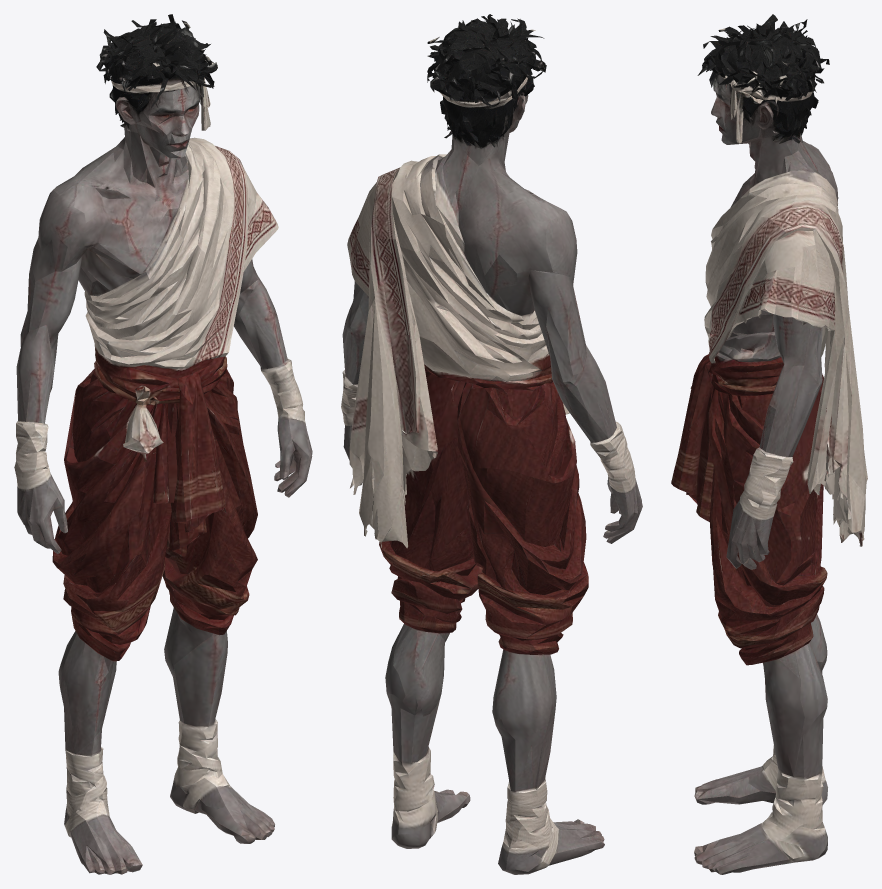
File: phitaihong.glb
The picture shows the model from 3 angles, left to right: view 1: azimuth 30°, elevation 25°; view 2: azimuth 150°, elevation 25°; view 3: azimuth 270°, elevation 25°; orthographic projection.
Bounding box in the file's own units: 0.7022 × 1.9 × 0.4197.
1 material, 1 textured.
